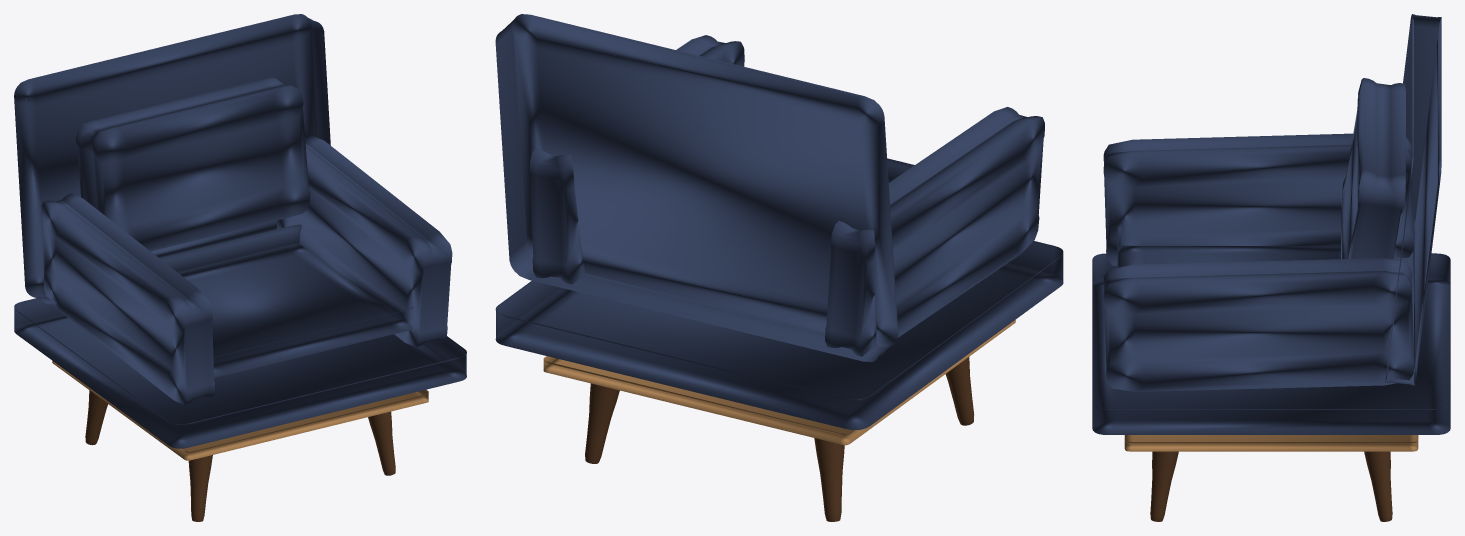
Rendered from armchair.glb.
3 renders of one model, left to right at view 1: azimuth 30°, elevation 25°; view 2: azimuth 150°, elevation 25°; view 3: azimuth 270°, elevation 25°, orthographic. The views are drawn at different scales.
Visible parts, largest first — view 1: back_cushion, back_panel, seat_base, armrest_left, seat_cushion, armrest_right, frame, leg_front_left, leg_front_right, leg_back_left; view 2: back_panel, seat_base, armrest_left, armrest_right, frame, leg_back_left, leg_back_right, leg_front_left; view 3: armrest_right, armrest_left, seat_base, back_cushion, back_panel, frame, seat_cushion, leg_front_right, leg_back_right.
Part boxes in pixels (x1,y1,x2,y2): back_cushion: [75, 77, 310, 251]; back_panel: [14, 14, 330, 304]; seat_base: [14, 298, 466, 448]; armrest_left: [41, 193, 214, 404]; seat_cushion: [159, 224, 413, 377]; armrest_right: [277, 135, 452, 347]; frame: [52, 361, 428, 460]; leg_front_left: [188, 455, 212, 521]; leg_front_right: [368, 411, 395, 475]; leg_back_left: [85, 390, 108, 445]; back_panel: [495, 14, 898, 362]; seat_base: [495, 241, 1063, 429]; armrest_left: [825, 107, 1044, 356]; armrest_right: [530, 35, 744, 284]; frame: [543, 320, 1015, 445]; leg_back_left: [814, 438, 844, 521]; leg_back_right: [585, 383, 619, 463]; leg_front_left: [945, 357, 974, 425]; armrest_right: [1103, 258, 1414, 391]; armrest_left: [1103, 133, 1414, 265]; seat_base: [1092, 253, 1450, 434]; back_cushion: [1341, 78, 1405, 259]; back_panel: [1385, 14, 1441, 385]; frame: [1124, 435, 1418, 451]; seat_cushion: [1117, 224, 1340, 267]; leg_front_right: [1150, 451, 1178, 521]; leg_back_right: [1364, 451, 1392, 521].
Bounding box in the file's own units: 0.7398 × 0.8511 × 0.7198.
